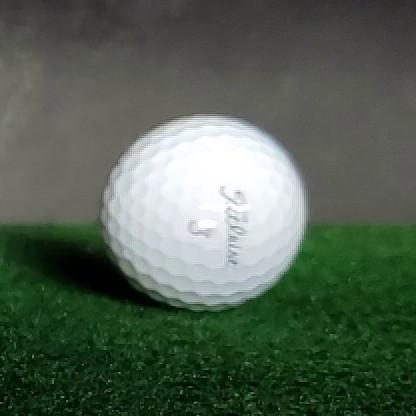golfball: (101, 115, 307, 311)
